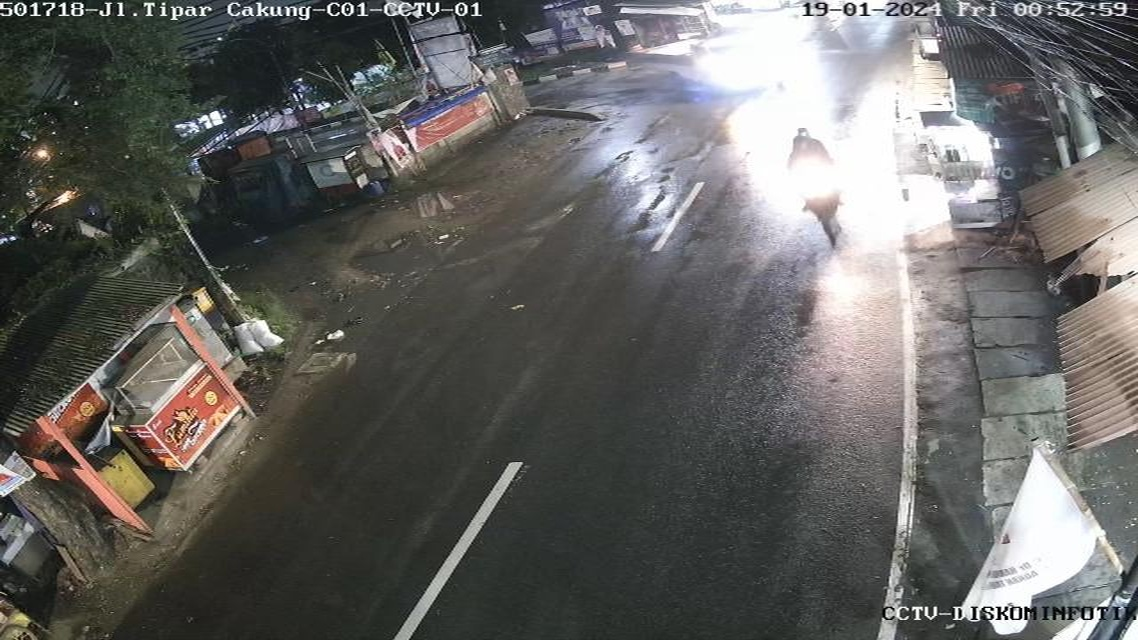Gerobak: (69, 322, 268, 471), (368, 8, 537, 180), (4, 368, 161, 532), (290, 143, 389, 220)
